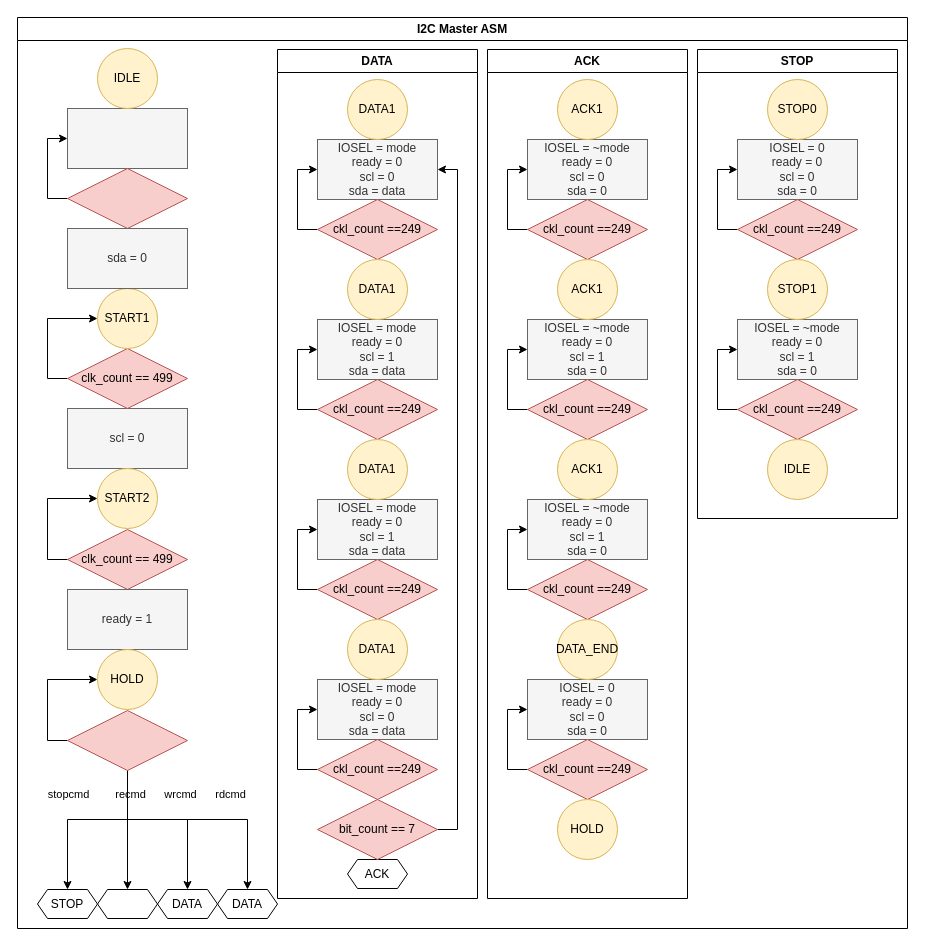
The diagram is 925 pixels wide and 946 high, and some of its shapes have lost their labels. Each missing label, with the centre of its shape:
"CMD" goes at (127,740).
"CMD == START_CMD" goes at (127,198).
"IOSEL = 0 ready = 1 scl = 1 sda = 1" goes at (127,138).
"START" goes at (127,903).
